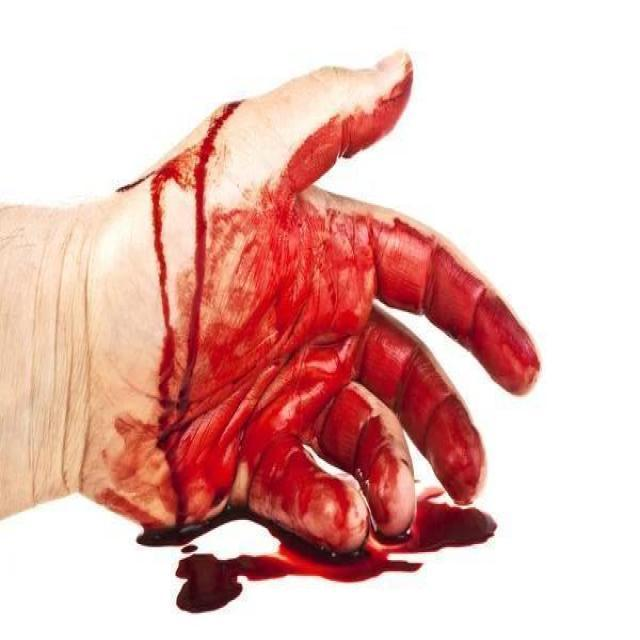flood: (132, 96, 540, 610)
